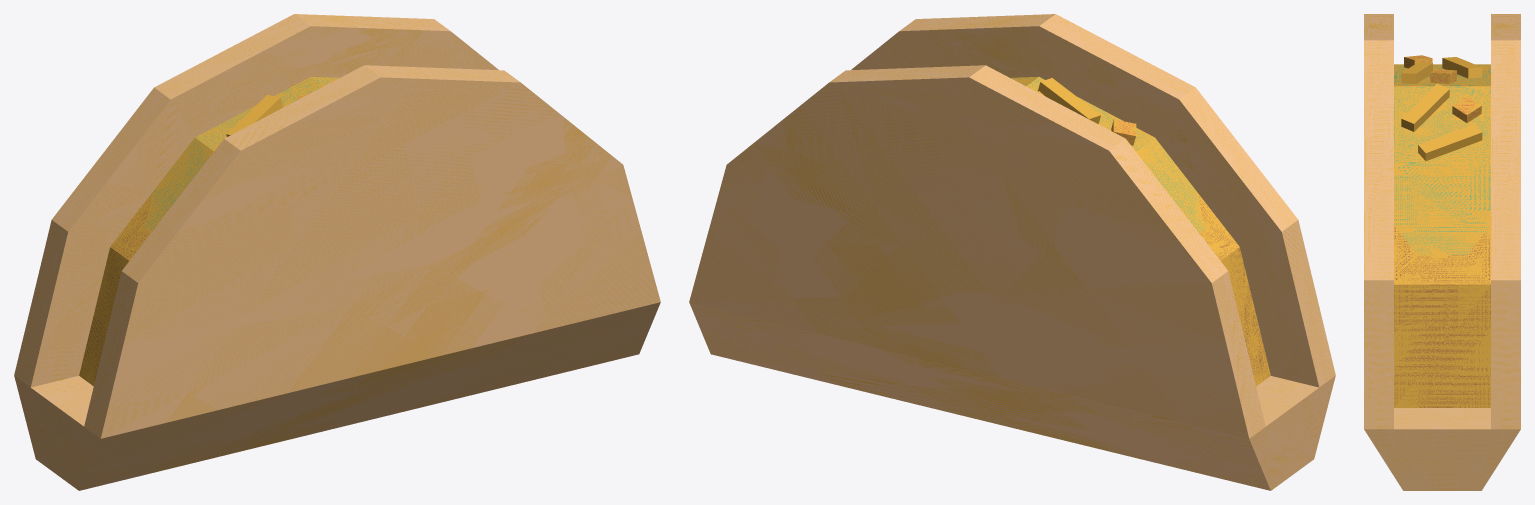
Rendered from taco.obj.
3 views of the same model, side by side, from view 1: azimuth 30°, elevation 25°; view 2: azimuth 150°, elevation 25°; view 3: azimuth 270°, elevation 25° (orthographic). The views are drawn at different scales.
Visible parts, largest first — view 1: taco; view 2: taco; view 3: taco.
Boxes of the visible parts, box(x1,y1,x2,y2) form: taco: box(14, 14, 660, 490); taco: box(689, 14, 1335, 490); taco: box(1364, 14, 1520, 490).
Size of the model in its own units: 0.4256 by 0.2622 by 0.114.
